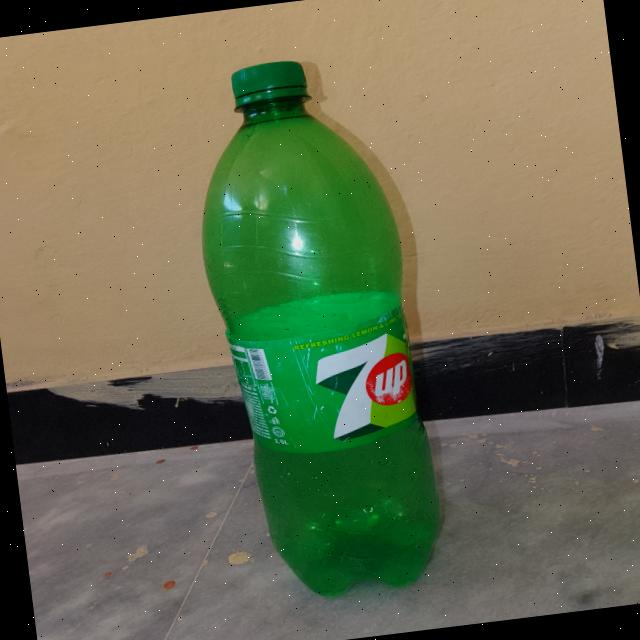bottle: (168, 28, 472, 620)
cap: (212, 50, 330, 122)
label: (221, 316, 432, 466)
